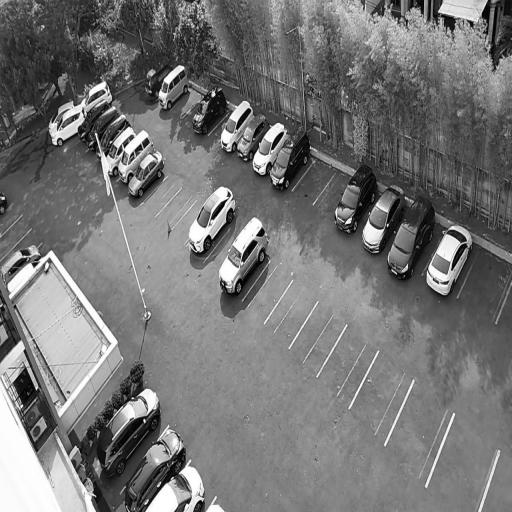Car: (89, 367, 172, 489), (118, 418, 192, 512), (380, 181, 444, 286), (419, 214, 480, 300), (214, 215, 275, 300), (183, 179, 240, 261), (356, 178, 411, 260), (330, 160, 384, 239), (143, 452, 212, 512), (265, 121, 315, 194), (114, 126, 157, 187), (126, 145, 170, 202), (188, 82, 233, 137), (248, 120, 290, 178), (217, 96, 256, 156), (154, 59, 193, 112), (234, 112, 273, 164), (101, 126, 138, 178), (84, 105, 122, 153), (93, 113, 130, 161), (50, 103, 87, 150), (76, 98, 112, 144), (142, 58, 173, 99), (46, 99, 77, 137), (79, 79, 116, 110), (0, 189, 10, 216)
Space Available: (381, 380, 454, 488), (425, 412, 500, 512), (348, 347, 415, 447), (317, 325, 378, 408), (289, 300, 348, 378), (458, 244, 512, 324), (264, 278, 318, 348), (242, 260, 293, 322), (479, 450, 512, 512), (292, 158, 336, 203), (155, 188, 197, 230), (141, 174, 182, 217), (0, 227, 42, 268), (313, 171, 350, 216), (0, 214, 32, 260), (204, 228, 237, 271), (170, 202, 202, 240), (171, 88, 202, 118), (497, 277, 512, 331), (0, 202, 22, 236), (208, 110, 232, 140), (182, 96, 204, 121)
